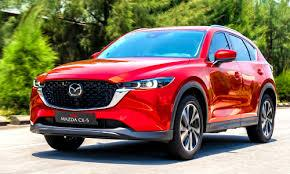mazda: (66, 83, 84, 101)
